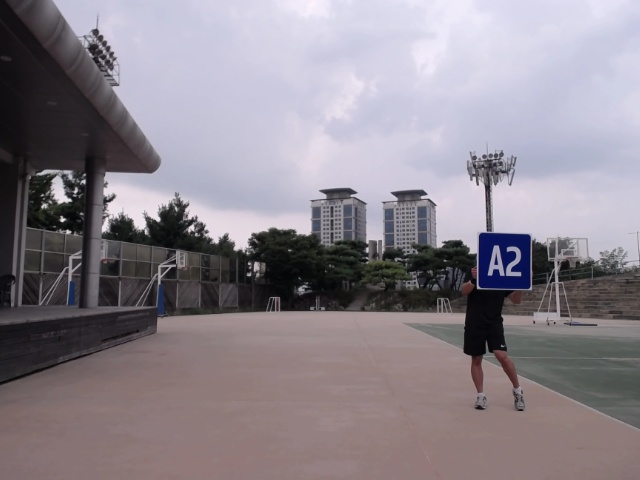delivery_a2: (477, 232, 532, 290)
